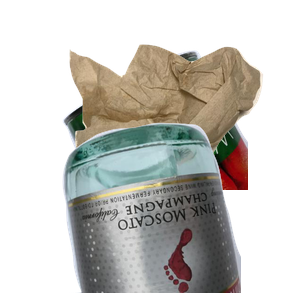glass: (60, 120, 300, 300)
metal: (60, 48, 300, 228)
plastic: (98, 176, 266, 300)
trash: (67, 42, 300, 206)
